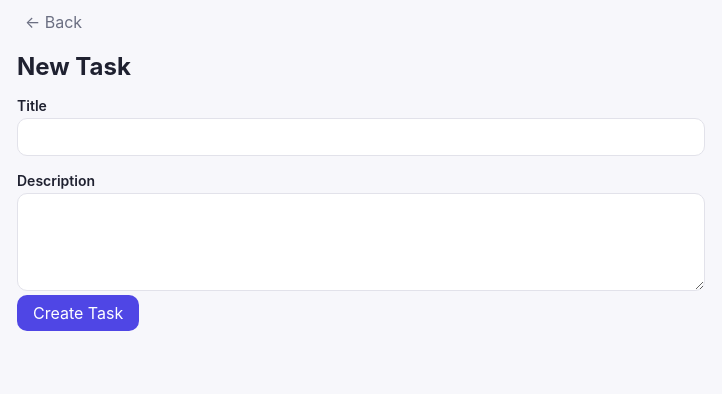
Scenario: TaskDetailPage › blocks submission client-side when the title is empty
Click the button "Create Task". click: (78, 313)
box: [17,295,139,331]
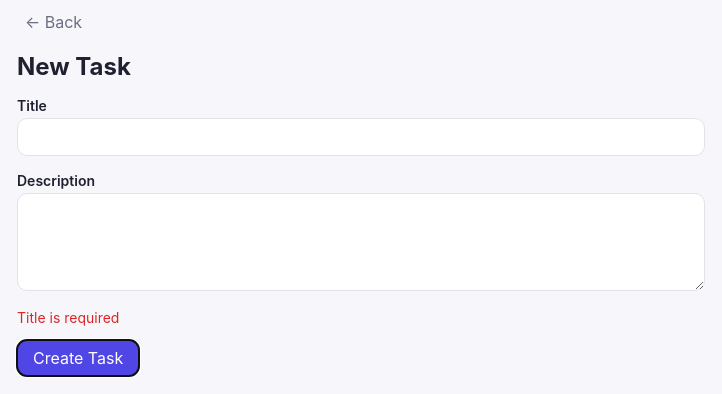
Expected: the message reads "Title is required", [17,309,119,326]
